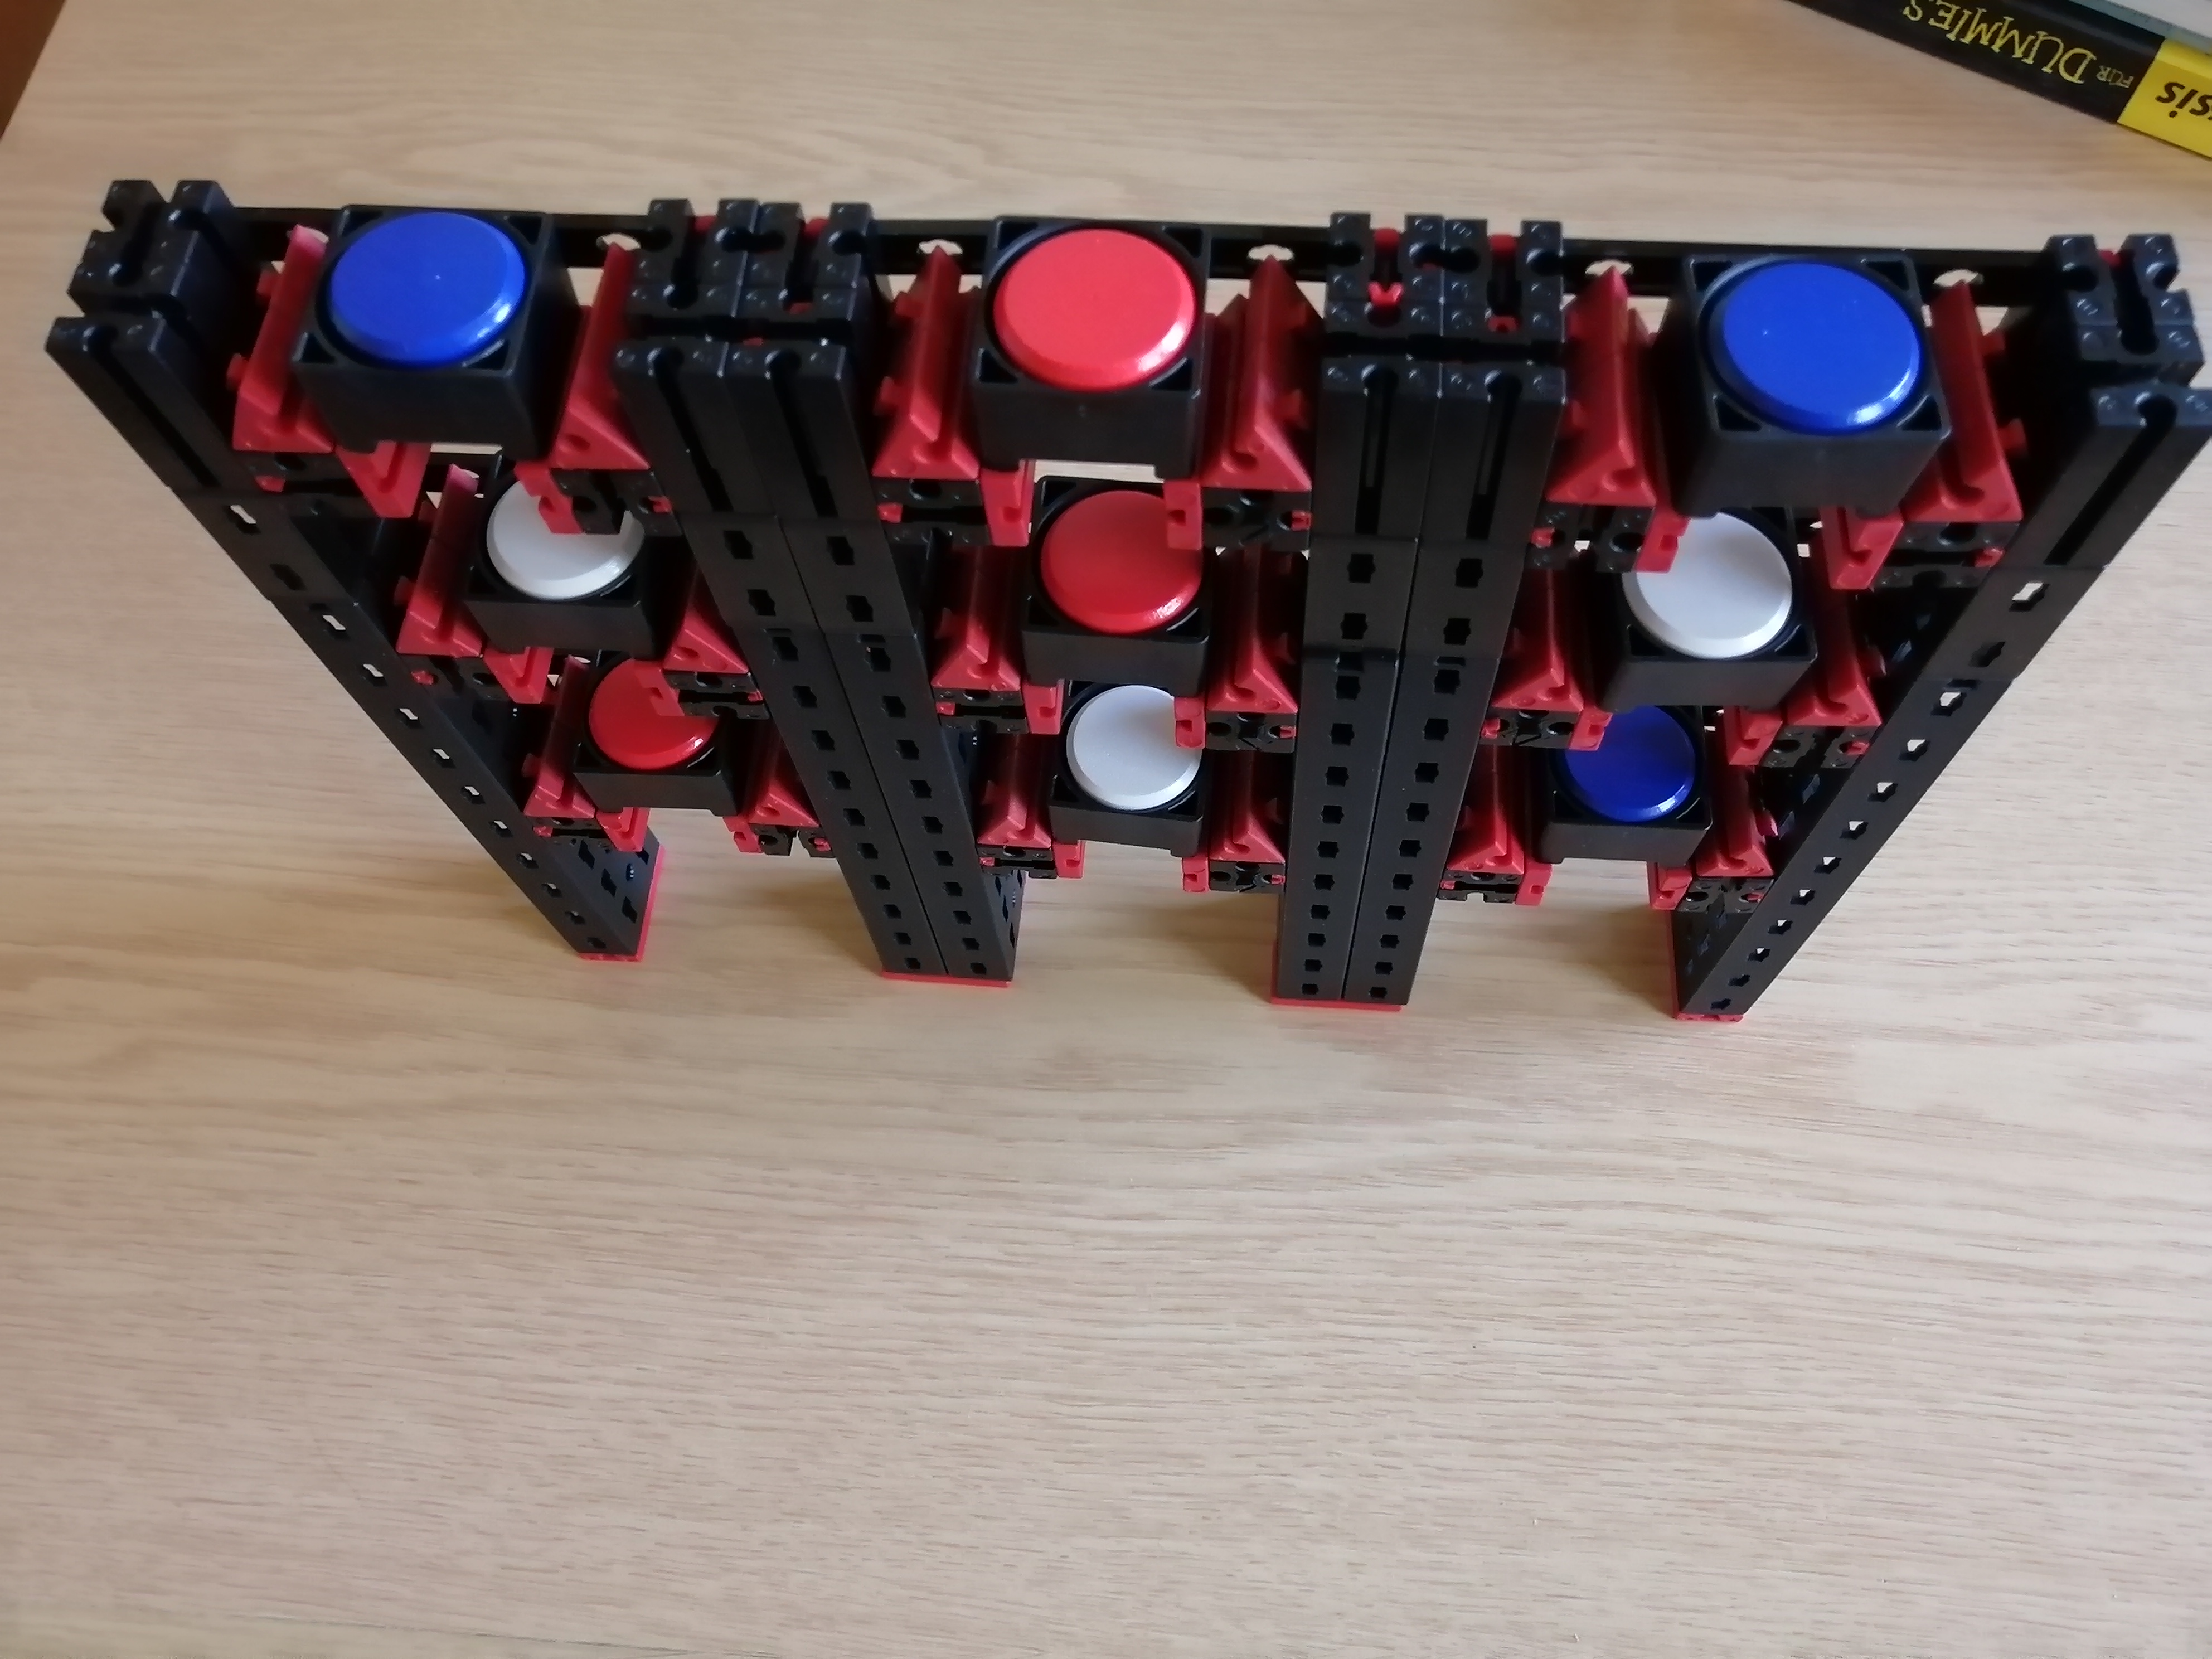Behaelter: (1670, 263, 1935, 526), (317, 213, 556, 464), (977, 221, 1200, 479), (1021, 486, 1223, 688), (1590, 540, 1808, 714), (470, 504, 653, 647), (1527, 737, 1728, 861), (1049, 695, 1211, 847), (568, 678, 759, 803)
WerkStueck: (1710, 256, 1918, 432), (334, 214, 523, 364), (1001, 235, 1190, 380), (1625, 526, 1785, 660), (1049, 497, 1195, 631), (489, 495, 646, 591), (1069, 694, 1198, 803), (1575, 723, 1686, 829), (589, 669, 707, 765)
